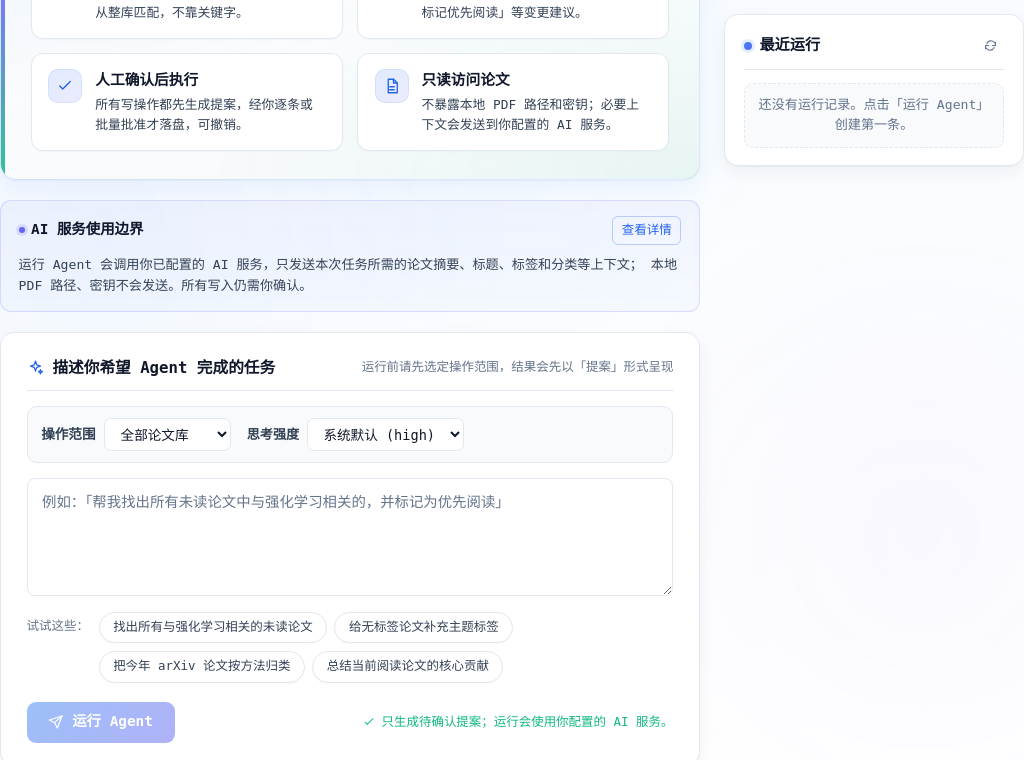
Test case: shows semantic search degradation warning
(page scrolled)
Type "整理" into the text box named "Agent 提示词".
click(350, 537); type("整理")  # box 27,478 -> 673,596
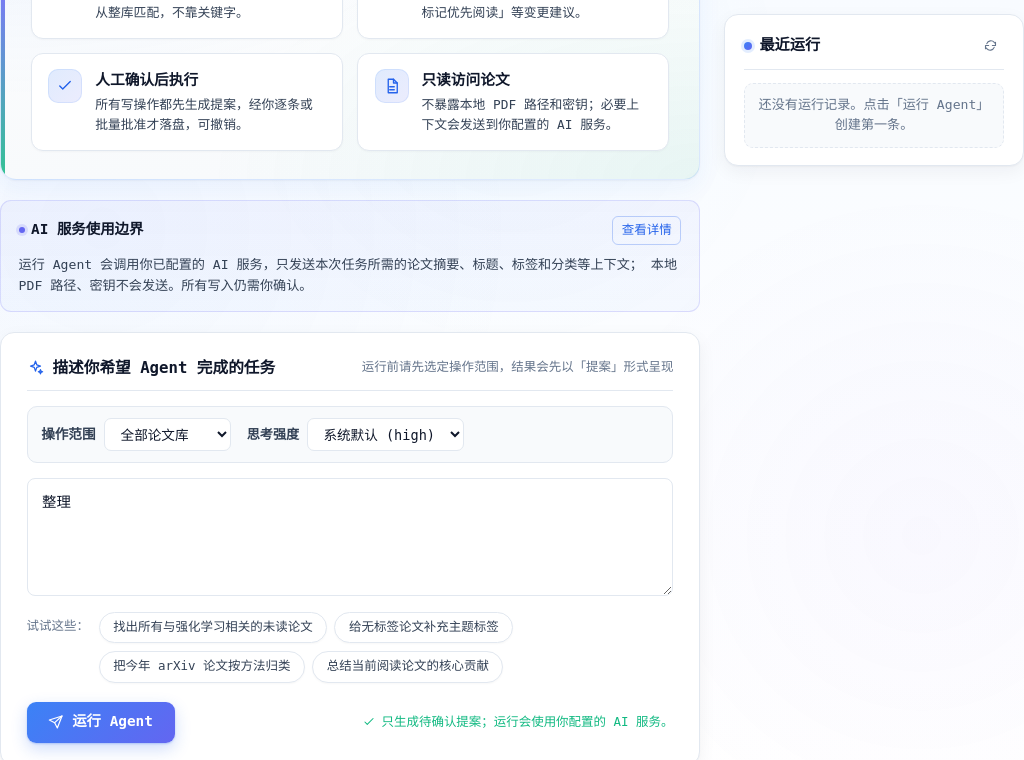
Click the button "运行 Agent".
click(101, 722)  # box 27,702 -> 175,742
(page scrolled)
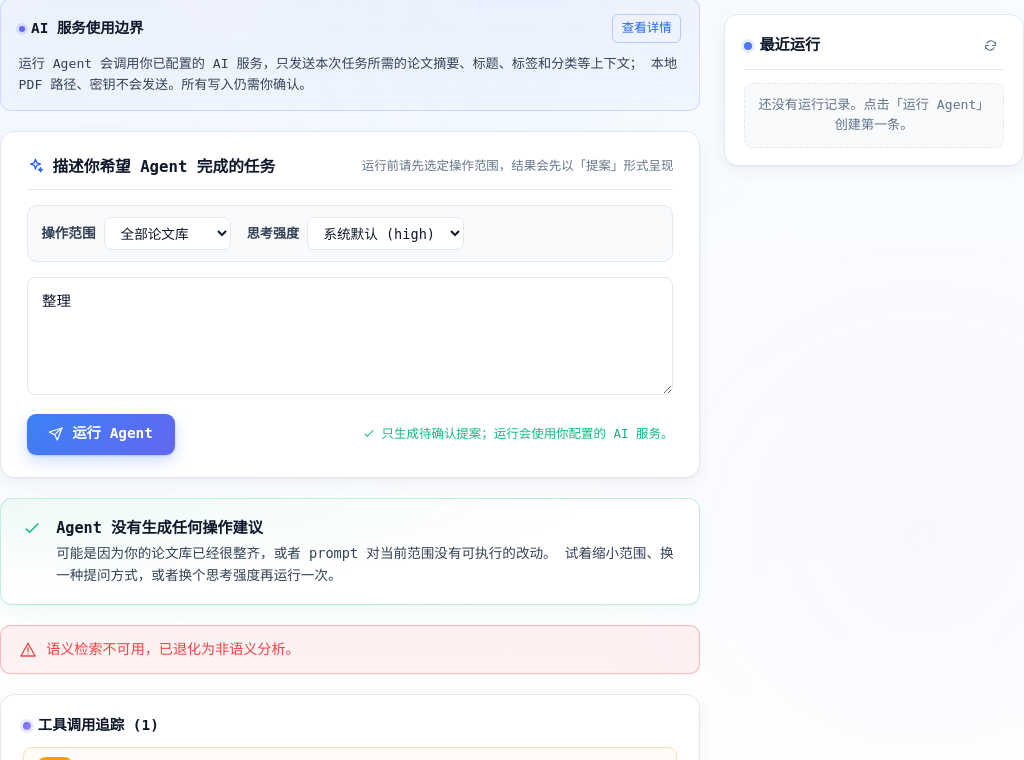
Result: the text "语义检索不可用，已退化为非语义分析。" is shown at 46,639 -> 300,660
